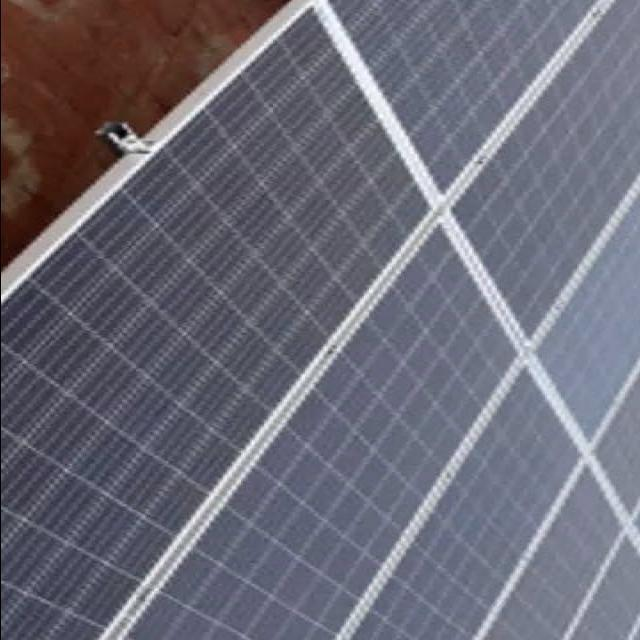no faulty: (2, 13, 433, 640), (123, 228, 515, 640), (457, 0, 640, 338), (352, 375, 577, 640), (333, 0, 603, 188), (540, 200, 640, 440), (483, 472, 622, 638), (575, 545, 640, 635), (598, 382, 638, 518)
